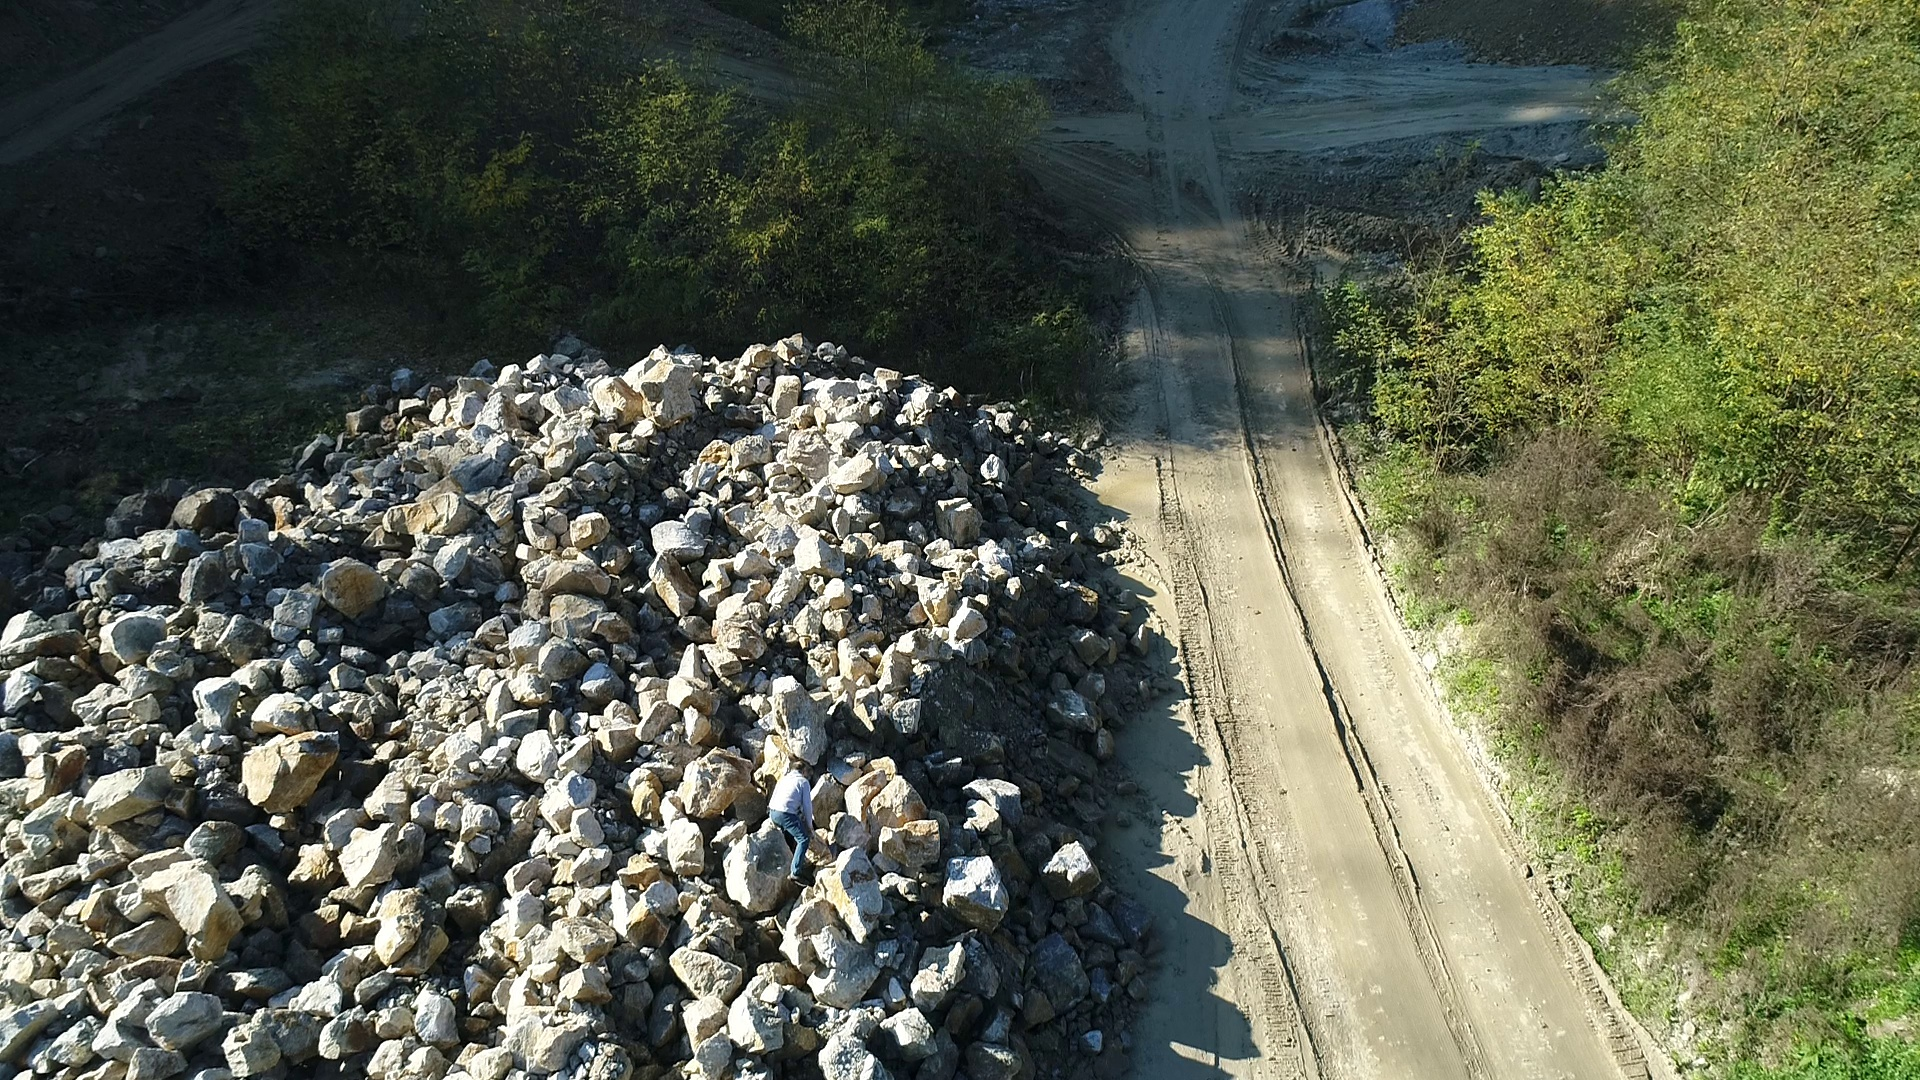person: (768, 759, 814, 888)
